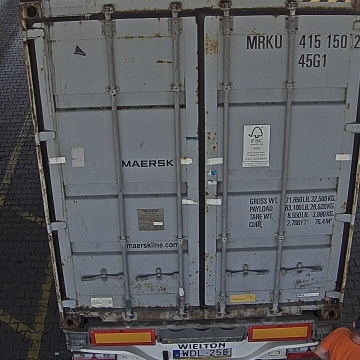serial_id: (246, 34, 360, 48)
